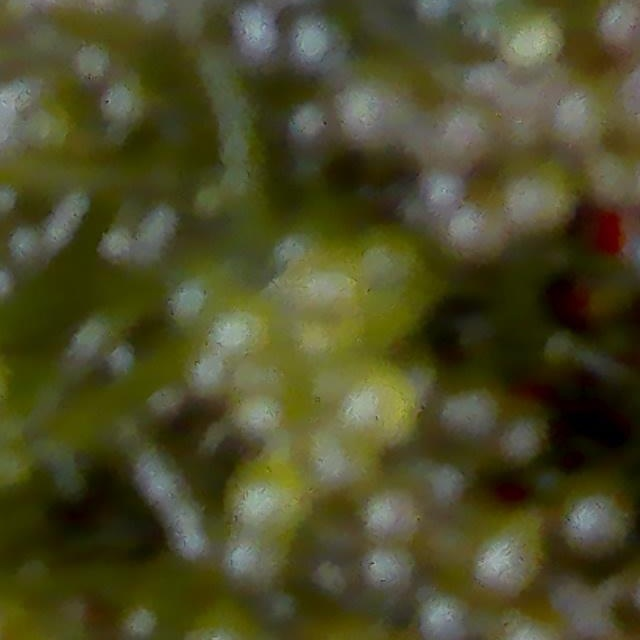SeaGrape: (329, 362, 423, 445), (287, 248, 367, 344), (235, 462, 314, 529), (235, 388, 306, 451), (565, 493, 628, 556), (219, 313, 279, 375), (419, 594, 469, 639)
